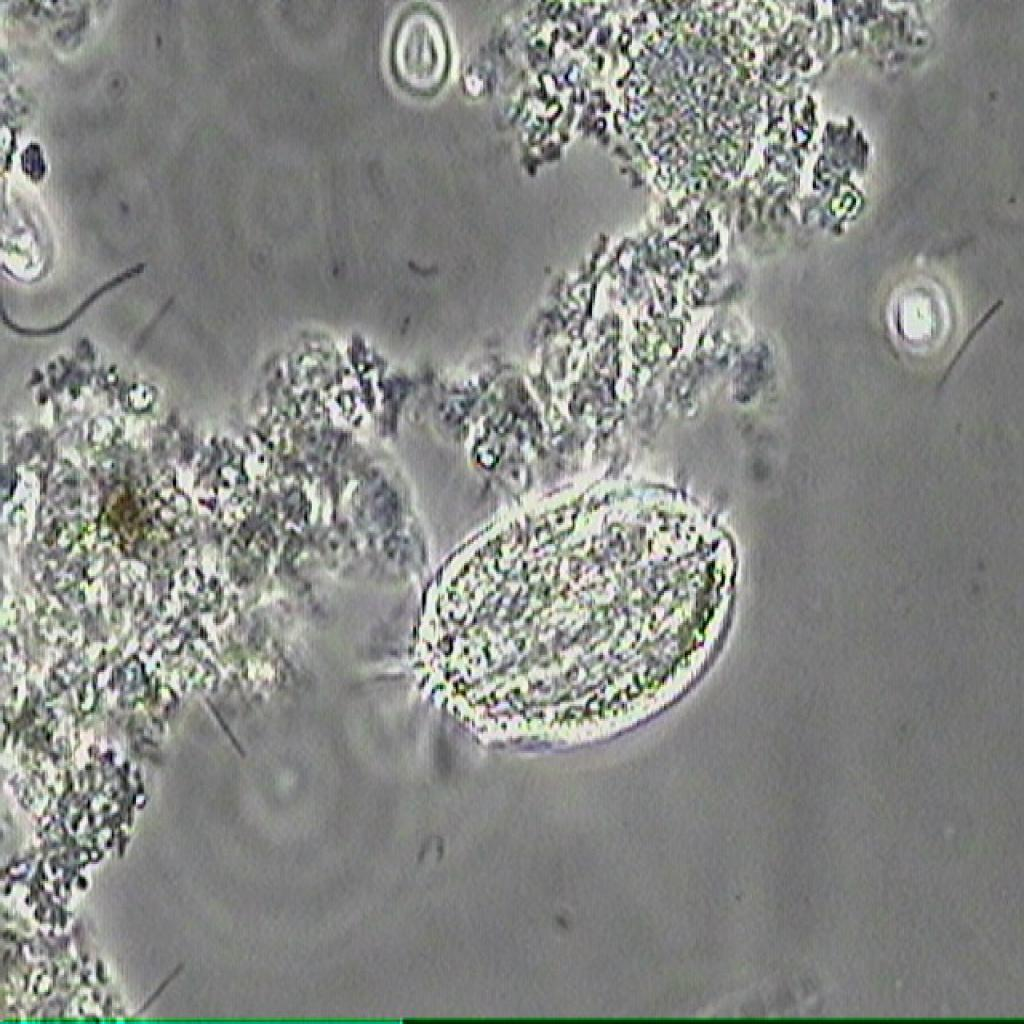Euplotes: (354, 477, 796, 752)
